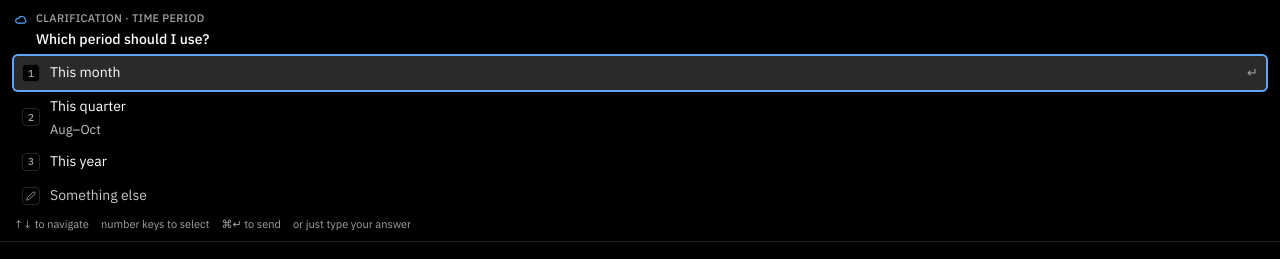
multi-select › unticks on a second click
Click the checkbox labelled "1 This month ↵": [85, 72] box [14,56,1266,90]
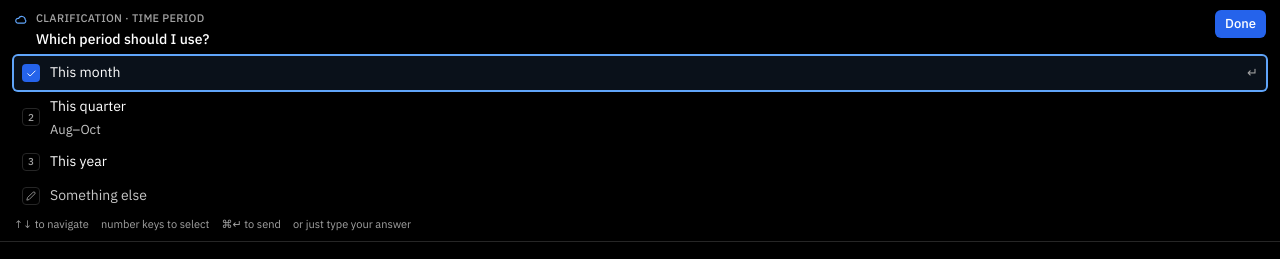
Click the checkbox labelled "This month ↵": [85, 72] box [14,56,1266,90]
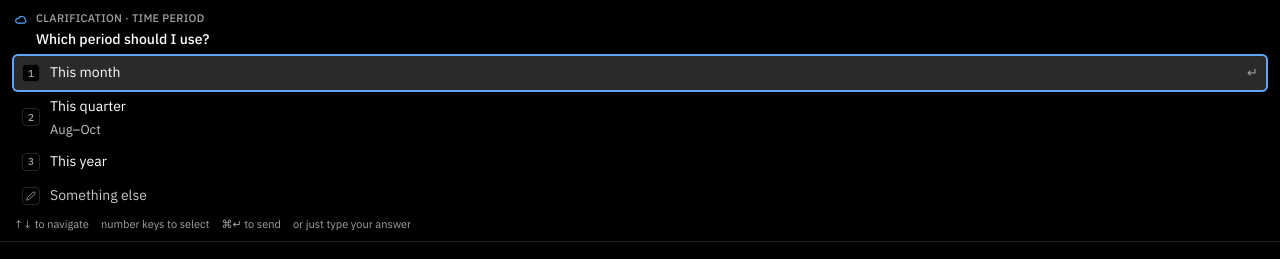
Check: the button "Done" is gone
